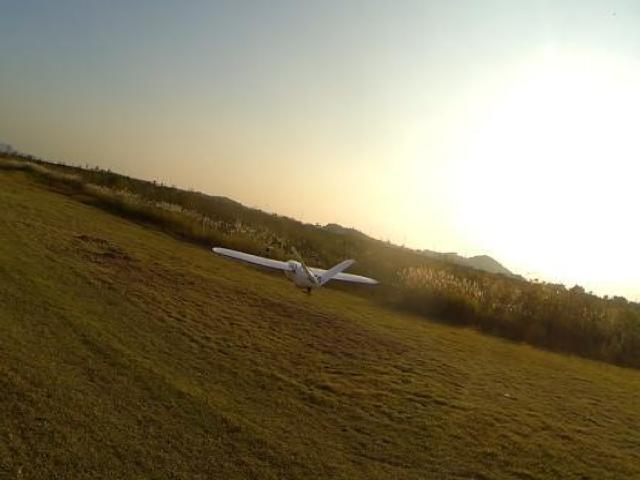uav: (203, 224, 382, 307)
